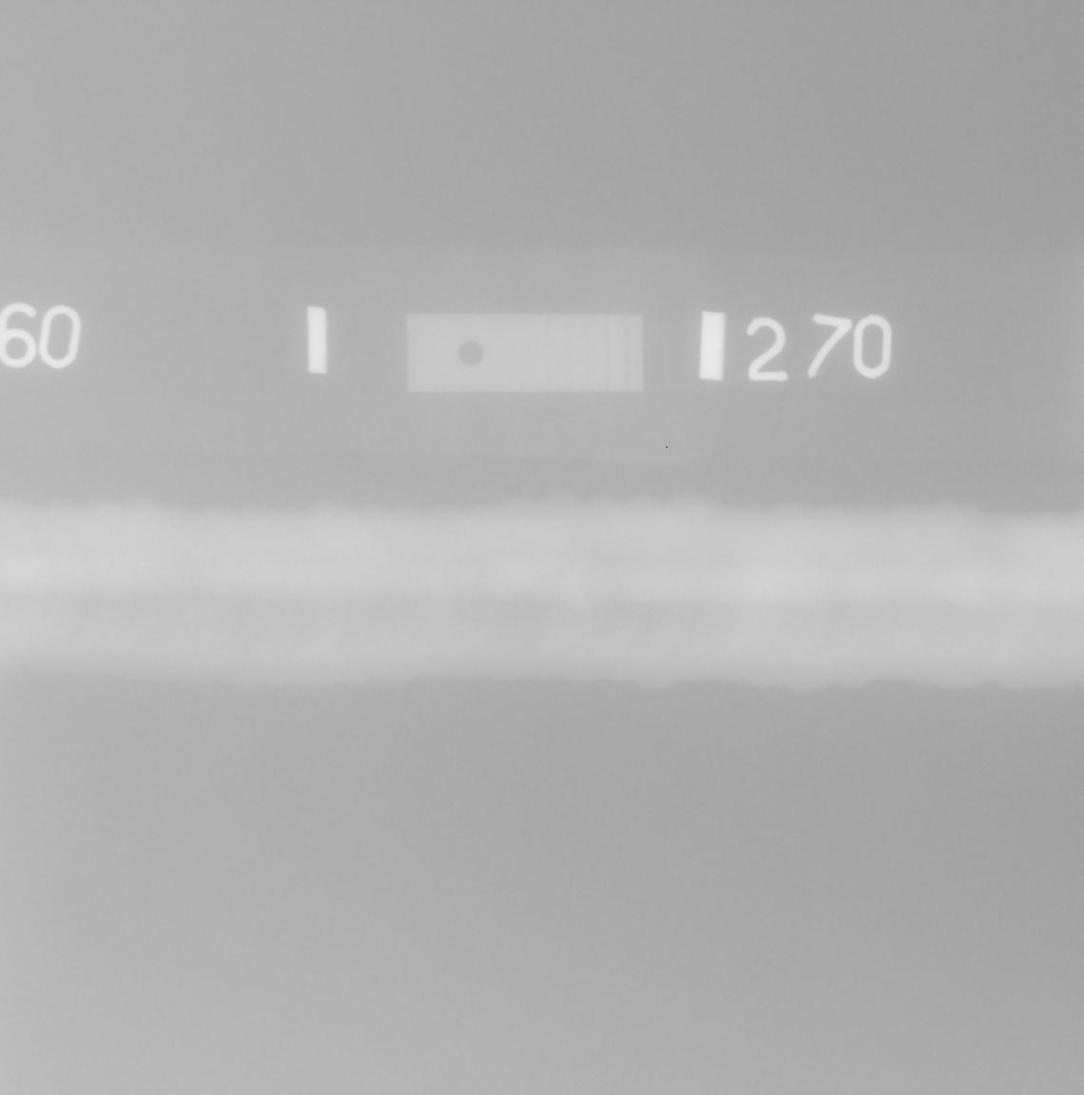Inclusion: (134, 599, 148, 604)
Pore/Porosity: (377, 602, 386, 610), (1048, 570, 1052, 576)
Reference Standard 1: (406, 314, 644, 392)
